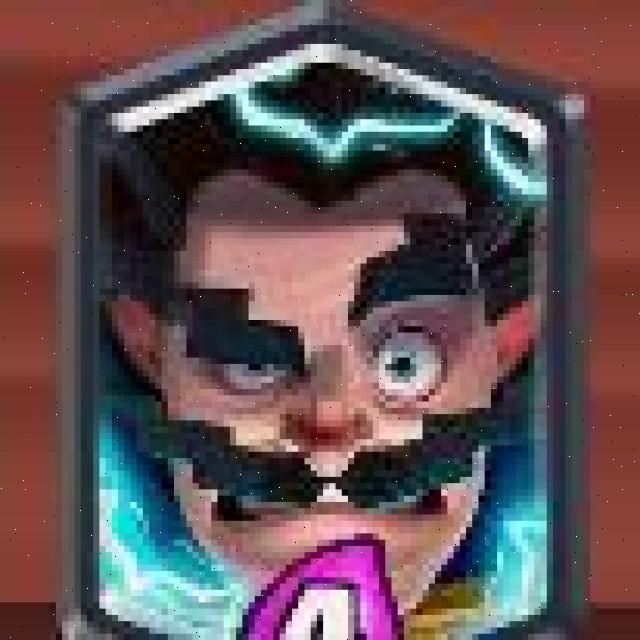Electro_Wizard: (55, 6, 586, 640)
